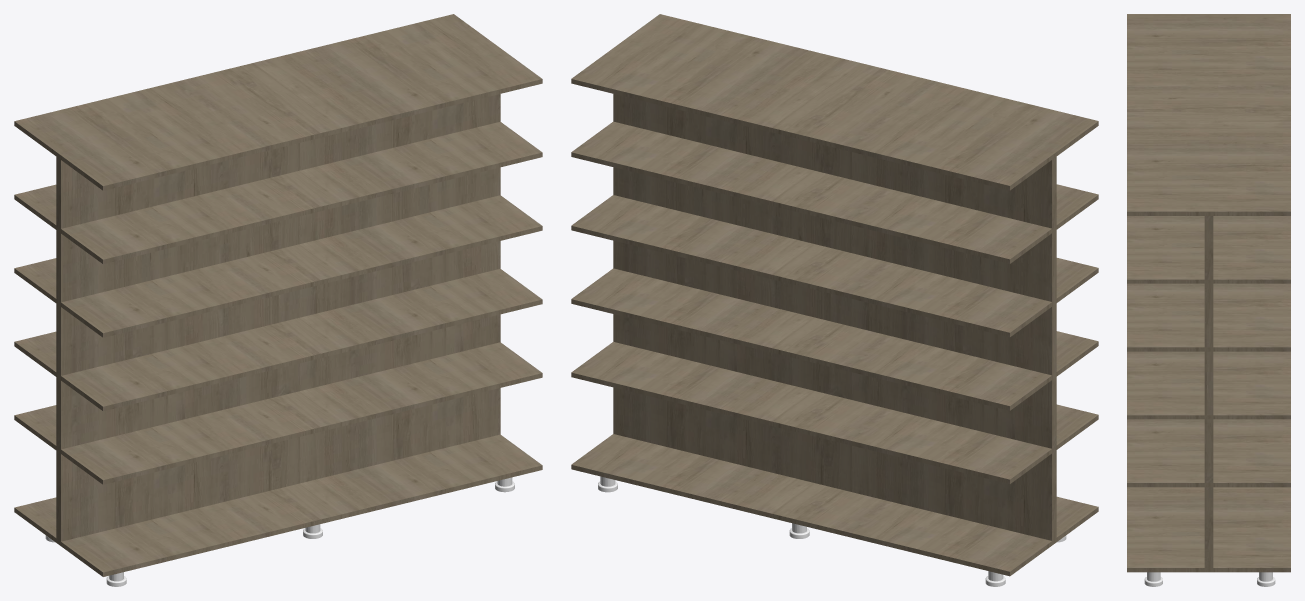
The picture shows the model from 3 angles, left to right: view 1: azimuth 30°, elevation 25°; view 2: azimuth 150°, elevation 25°; view 3: azimuth 270°, elevation 25°; orthographic projection. The views are drawn at different scales.
Parts seen in each view (by area): view 1: Box002, Box003, Box001, Box006, Box004, Box007, Box005; view 2: Box002, Box003, Box001, Box004, Box007, Box006, Box005; view 3: Box003, Box001, Box005, Box006, Box007, Box004, Box002, Cylinder003, Cylinder008.
Boxes of the visible parts, x1,y1,x2,y2 form: Box002: (56,94,500,541); Box003: (14,14,542,190); Box001: (14,434,542,576); Box006: (14,268,542,411); Box004: (14,121,542,264); Box007: (14,342,542,484); Box005: (14,195,542,337); Box002: (613,94,1056,540); Box003: (571,14,1098,190); Box001: (571,434,1098,576); Box004: (571,121,1098,263); Box007: (571,342,1098,483); Box006: (571,268,1098,410); Box005: (571,195,1098,337); Box003: (1127,14,1290,215); Box001: (1127,487,1290,572); Box005: (1127,283,1290,351); Box006: (1127,351,1290,419); Box007: (1127,419,1290,487); Box004: (1127,216,1290,283); Box002: (1204,216,1213,567); Cylinder003: (1144,572,1162,586); Cylinder008: (1257,572,1275,586).
Size of the model in its own units: 2 by 1.8 by 0.7.
Materials: 2 (1 with a texture image).
